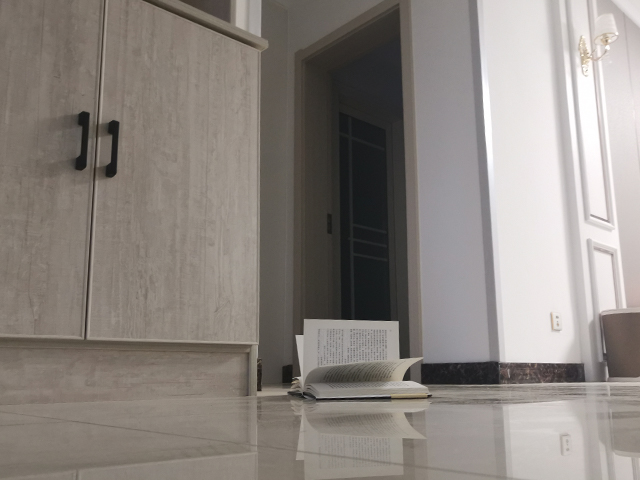book: (284, 317, 433, 403)
cabinet: (1, 1, 271, 404)
trashcan: (596, 304, 640, 383)
